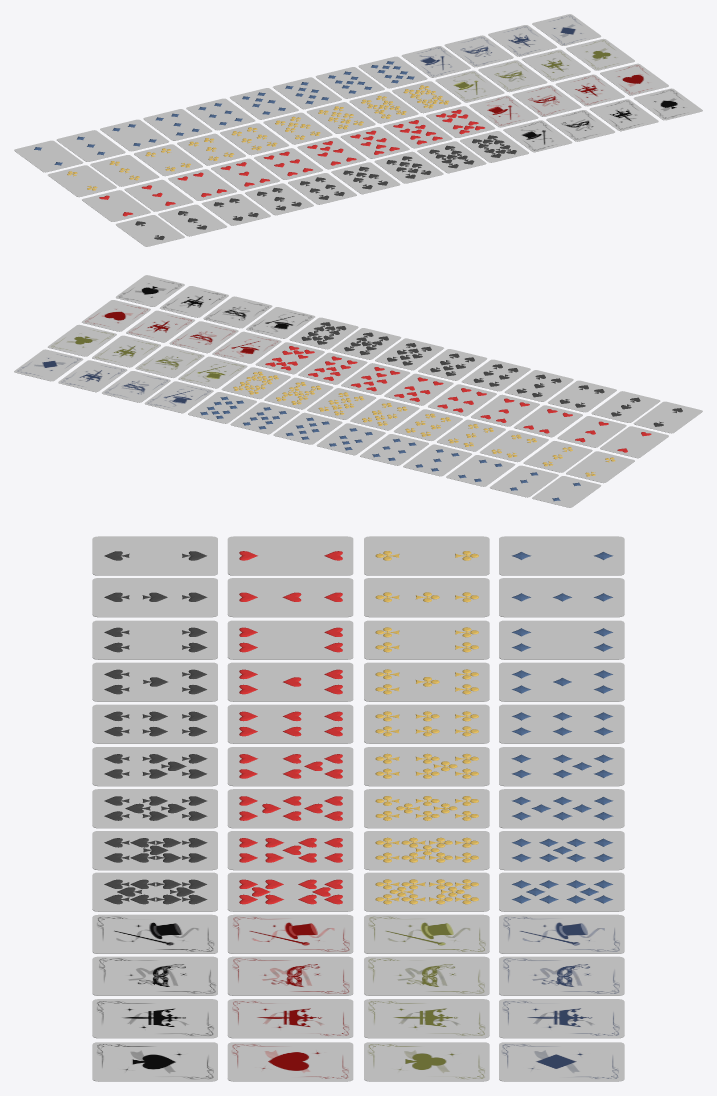
File: NormalCards.fbx
3 renders of one model, top to bottom at view 1: azimuth 30°, elevation 25°; view 2: azimuth 150°, elevation 25°; view 3: azimuth 270°, elevation 25°, orthographic. The views are drawn at different scales.
Visible parts, largest first — view 1: C_9, D_2, S_A, S_7, C_10, C_7, C_J, C_Q, D_A, H_9, H_J, S_2 (+40 smaller); view 2: C_J, D_A, S_2, C_7, C_9, D_7, D_2, H_10, H_7, H_9, H_Q, S_A (+40 smaller); view 3: H_10, H_2, H_A, H_4, H_5, H_8, H_K, H_6, H_Q, H_3, H_7, H_9 (+40 smaller).
Part boxes in pixels (left/top/right/bottom): C_9: left=349, top=91, right=418, bottom=123; D_2: left=14, top=140, right=83, bottom=172; S_A: left=633, top=88, right=702, bottom=120; S_7: left=331, top=162, right=400, bottom=194; C_10: left=392, top=81, right=461, bottom=113; C_7: left=263, top=112, right=332, bottom=144; C_J: left=435, top=70, right=504, bottom=102; C_Q: left=478, top=60, right=547, bottom=92; D_A: left=532, top=14, right=601, bottom=45; H_9: left=383, top=116, right=452, bottom=148; H_J: left=469, top=95, right=538, bottom=127; S_2: left=115, top=215, right=184, bottom=246; C_J: left=178, top=356, right=247, bottom=388; D_A: left=14, top=349, right=83, bottom=381; S_2: left=633, top=401, right=702, bottom=433; C_7: left=350, top=398, right=419, bottom=430; C_9: left=264, top=377, right=333, bottom=409; D_7: left=316, top=423, right=385, bottom=455; D_2: left=532, top=476, right=601, bottom=507; H_10: left=255, top=342, right=324, bottom=374; H_7: left=384, top=373, right=453, bottom=405; H_9: left=298, top=352, right=367, bottom=384; H_Q: left=169, top=321, right=238, bottom=353; S_A: left=115, top=275, right=184, bottom=306; H_10: left=227, top=872, right=353, bottom=911; H_2: left=227, top=536, right=353, bottom=575; H_A: left=227, top=1042, right=353, bottom=1081; H_4: left=227, top=620, right=353, bottom=659; H_5: left=227, top=662, right=353, bottom=701; H_8: left=227, top=789, right=353, bottom=828; H_K: left=227, top=999, right=353, bottom=1038; H_6: left=227, top=704, right=353, bottom=743; H_Q: left=227, top=956, right=353, bottom=995; H_3: left=227, top=578, right=353, bottom=617; H_7: left=227, top=747, right=353, bottom=786; H_9: left=227, top=831, right=353, bottom=870.
Size of the model in its own units: 1735 by 2.22 by 716.
